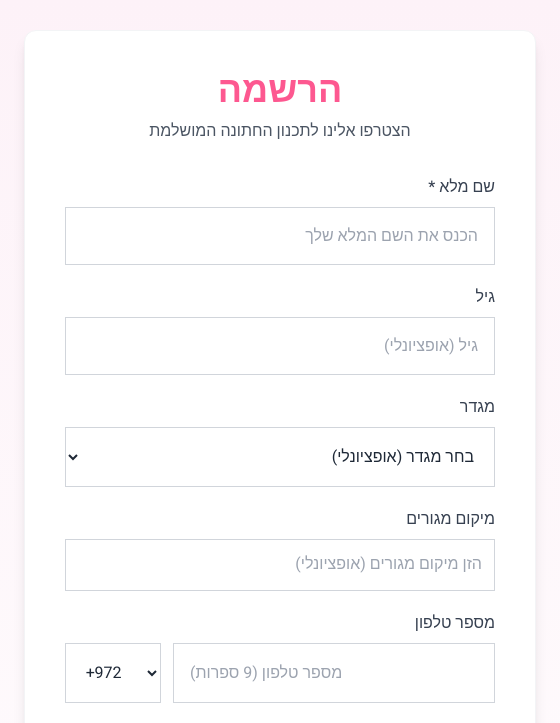
Register Page › shows error message on failed registration
# מלא שדות חובה
Type "Test User" into the field with placeholder "הכנס את השם המלא שלך" at (280, 236), box [65,207,495,265]
(page scrolled)
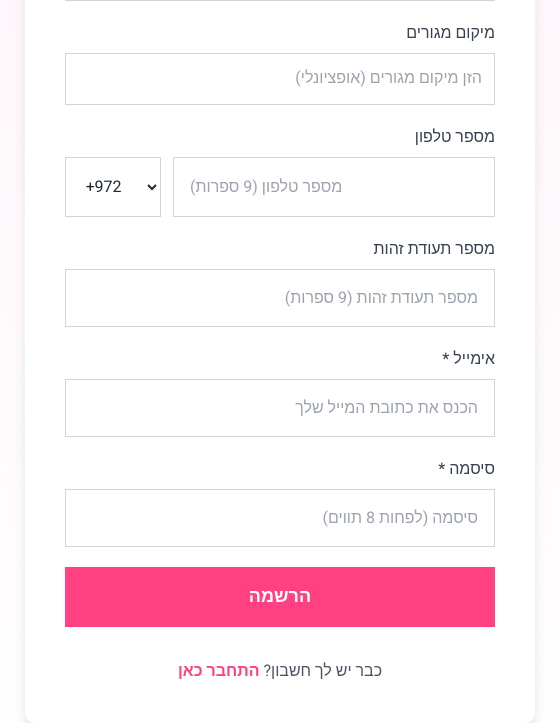
Type "test@example.com" into the field with placeholder "הכנס את כתובת המייל שלך" at (280, 408), box [65,379,495,437]
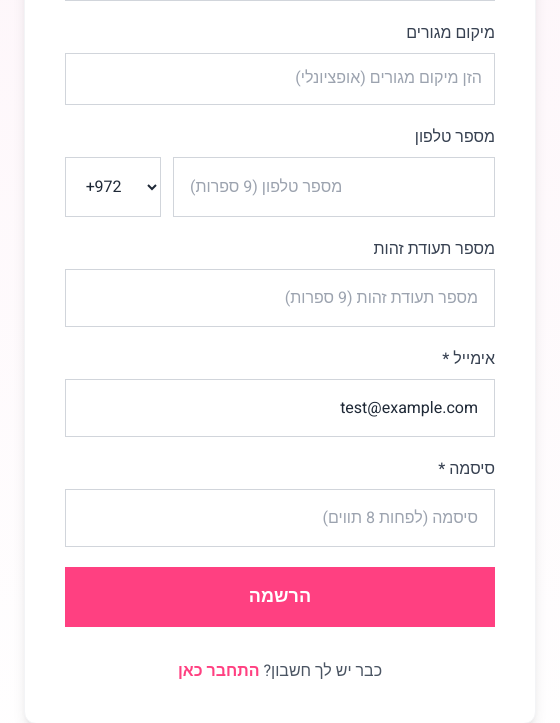
Type "password123" into the password field with placeholder "סיסמה (לפחות 8 תווים)" at (280, 518), box [65,489,495,547]
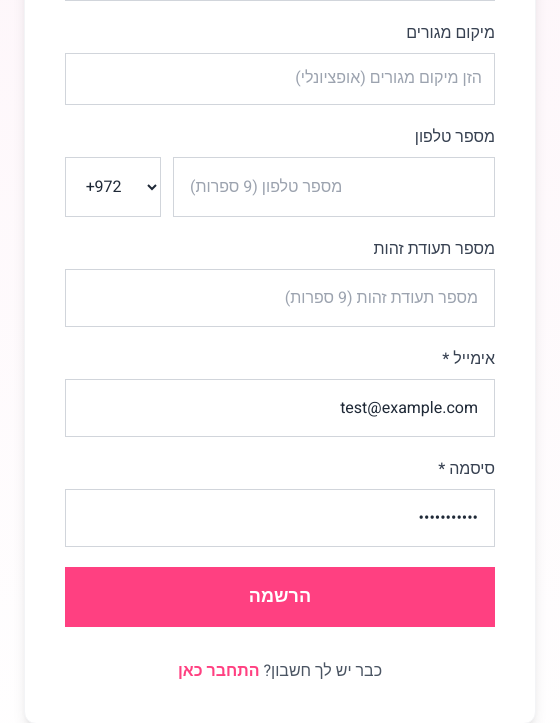
Click the button "הרשמה" at (280, 597), box [65,567,495,627]
(page scrolled)
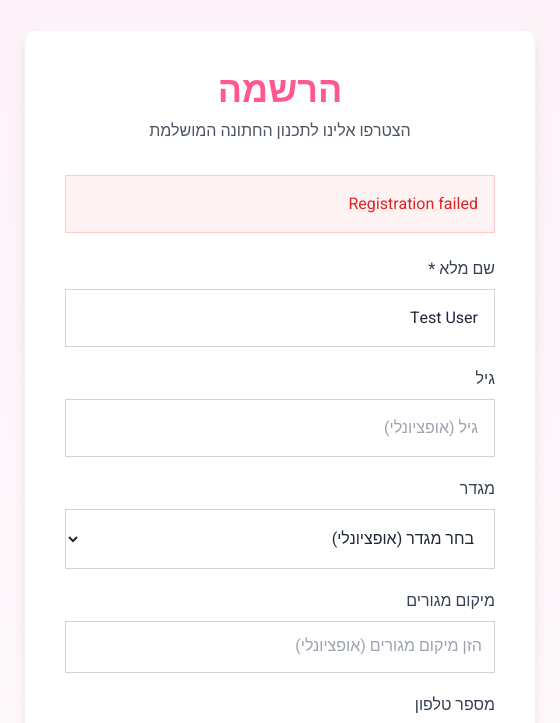
Expected: the text "Registration failed" is shown, [65,175,495,233]
